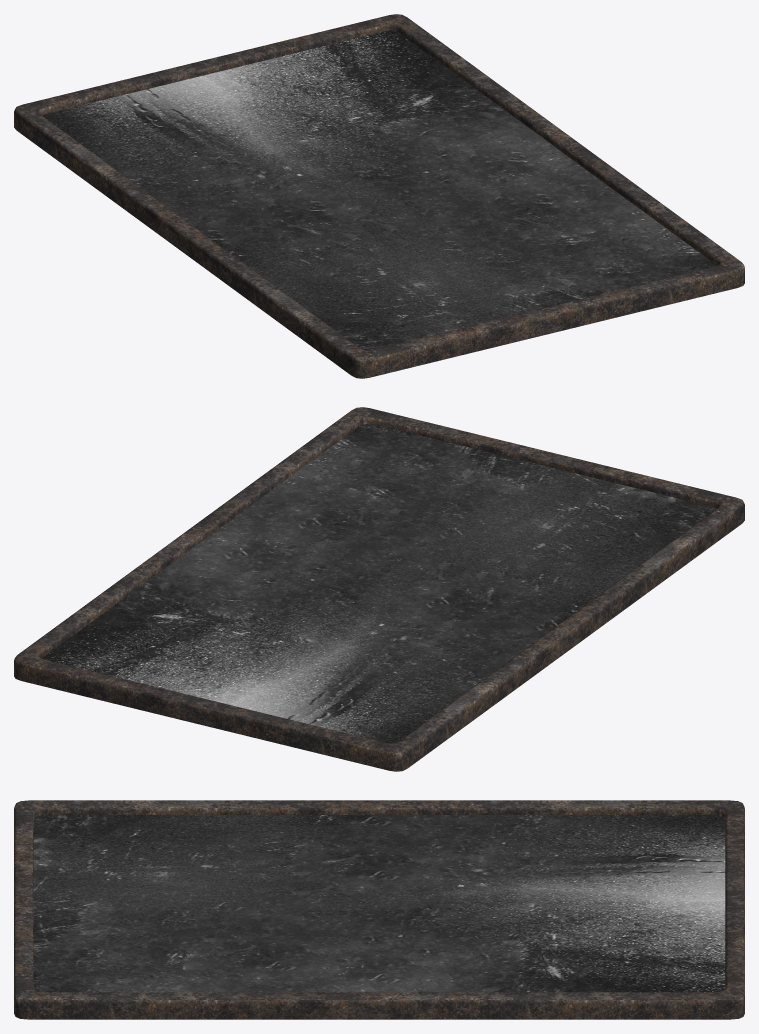
Rendered from Mirror.FBX.
3 renders of one model, top to bottom at view 1: azimuth 30°, elevation 25°; view 2: azimuth 150°, elevation 25°; view 3: azimuth 270°, elevation 25°, orthographic. The views are drawn at different scales.
Parts seen in each view (by area): view 1: Box051; view 2: Box051; view 3: Box051.
Part boxes in pixels (<box>): Box051: <box>14,14,744,378</box>; Box051: <box>14,407,744,771</box>; Box051: <box>14,800,744,1019</box>.
Bounding box in the file's own units: 674 × 31.5 × 1040.
